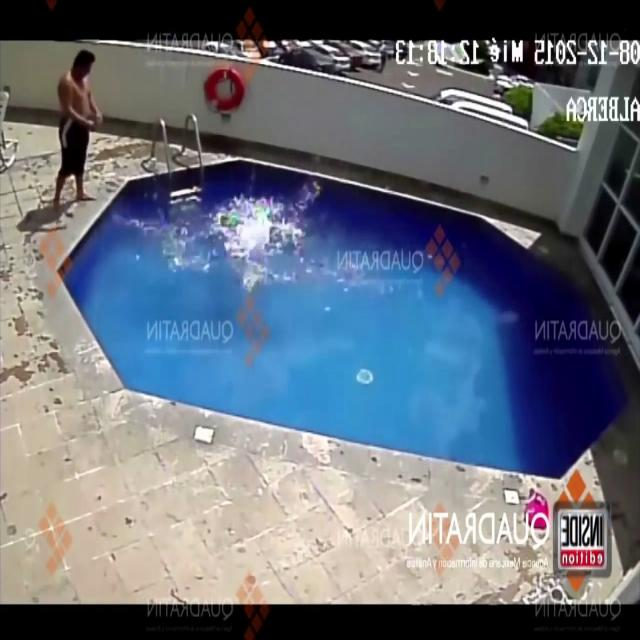adult: (42, 49, 101, 220)
